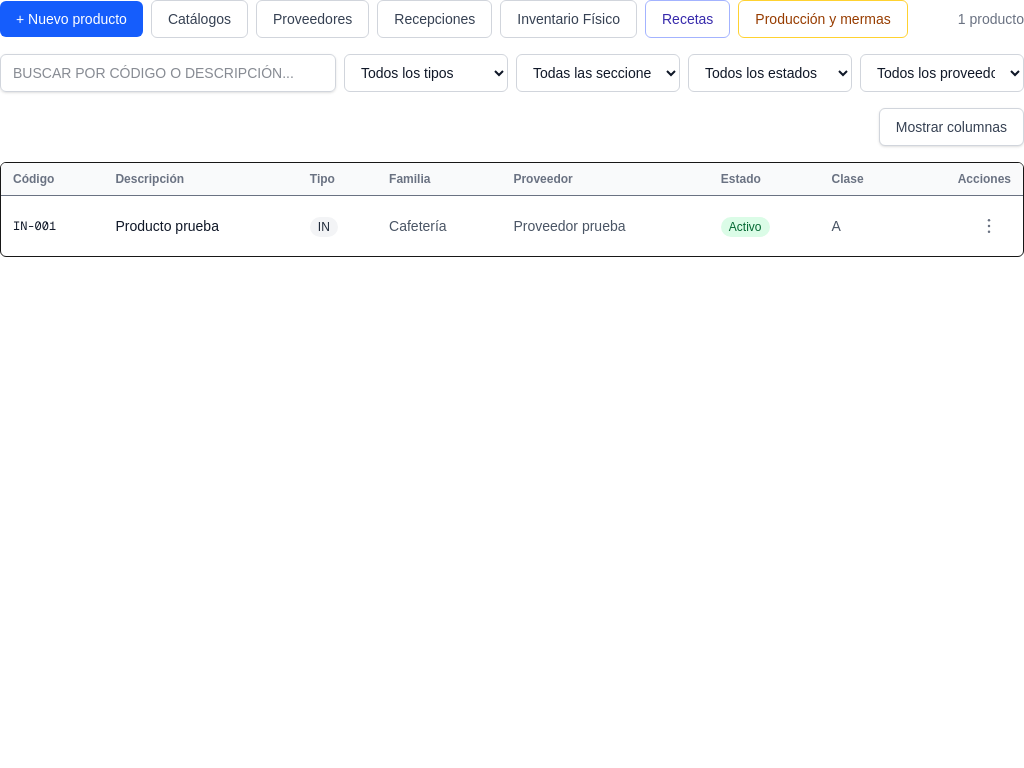
Test case: InventoryPage column visibility › shows every column option vertically and locks description
Expected: the text "Producto prueba" is shown, [103,196,298,256]
Click the button "Mostrar columnas".
click(951, 127)  # box [879,108,1023,146]
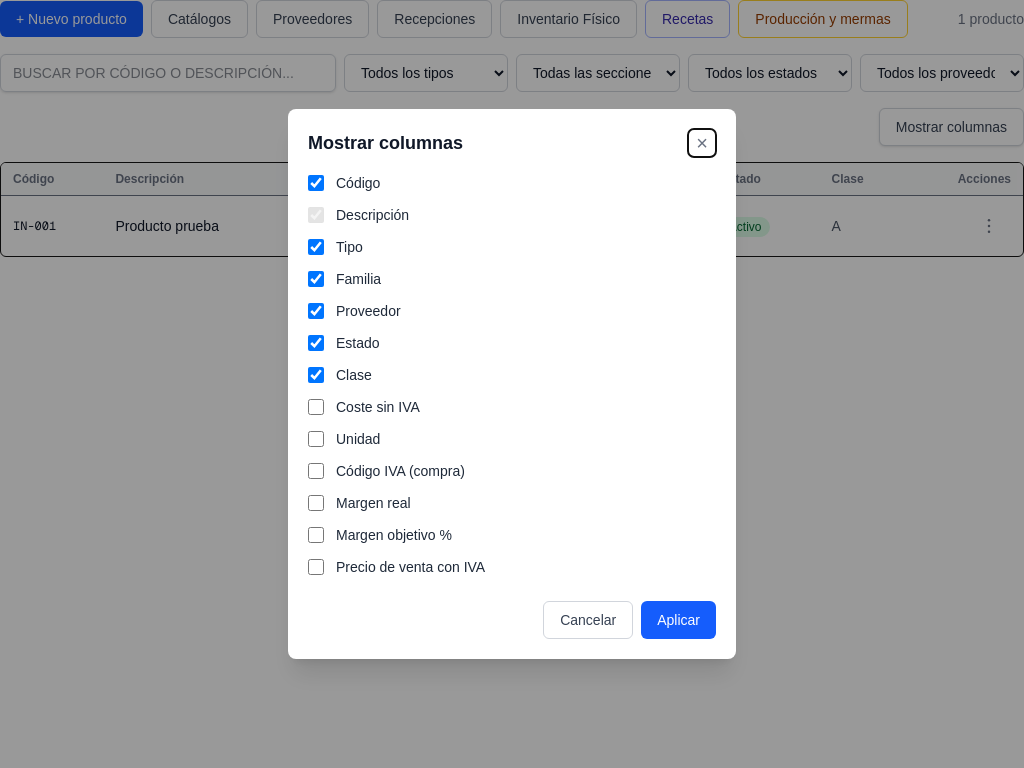
Now the number of checkboxes is 13
Now the checkbox labelled "Descripción" is checked, box [308,207,324,223]
Now the checkbox labelled "Descripción" is disabled, box [308,207,324,223]
